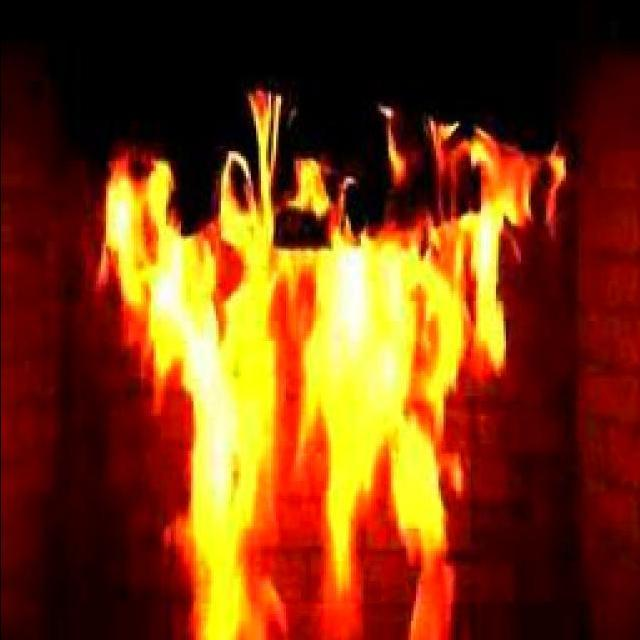Fire: (112, 154, 464, 597)
